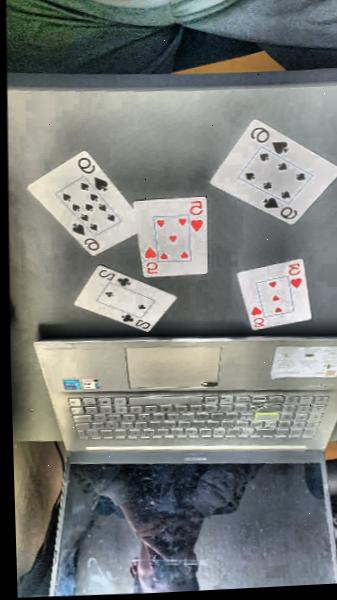2T: (93, 264, 138, 292), (114, 308, 161, 330)
3C: (286, 257, 308, 291), (247, 297, 267, 333)
5C: (187, 194, 206, 239), (138, 242, 161, 279)
6P: (238, 114, 300, 156), (251, 191, 307, 224)
9P: (67, 146, 116, 193), (57, 214, 107, 258)
